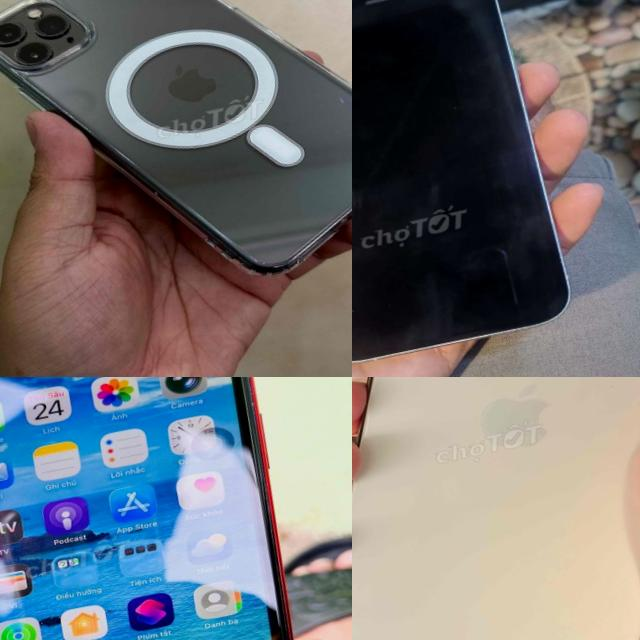gen_11: (0, 0, 352, 330), (0, 377, 347, 640)
gen_12_13: (352, 0, 577, 374)
gen_14: (352, 377, 640, 640)
